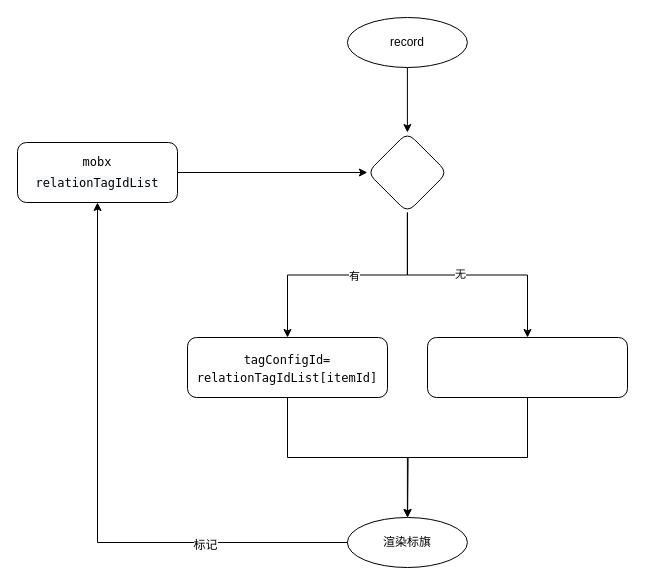
The diagram is 645 pixels wide and 585 high, and some of its shapes have lost their labels. The box of each missing label's shape, as (x1, y1, x2, y2) in pixels:
tagConfigId= record.TAG_CONFIG_ID: (426, 336, 628, 398)
获取缓存: (366, 132, 447, 212)
